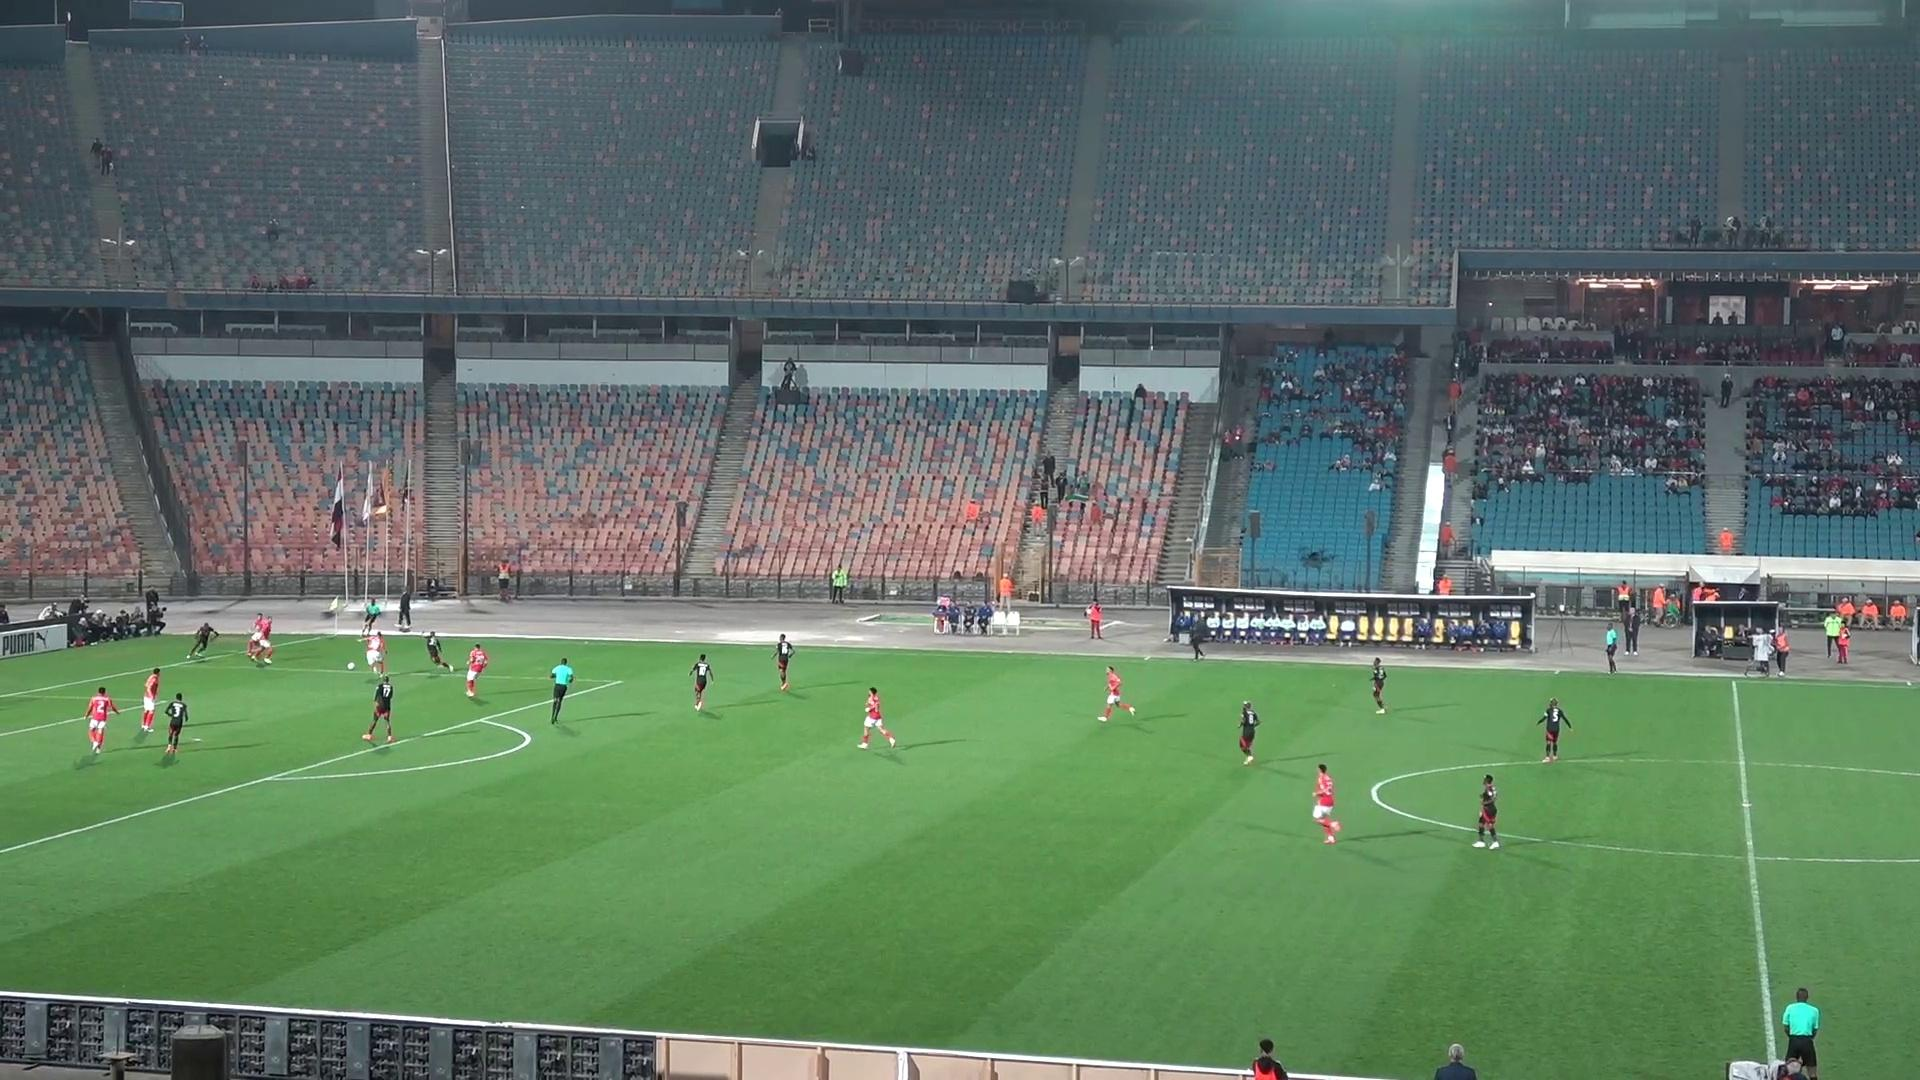Ball: (345, 661, 363, 671)
Refree: (1771, 988, 1820, 1079), (549, 657, 575, 724), (1602, 621, 1636, 673), (363, 597, 385, 632)
Team1: (84, 686, 117, 760), (858, 686, 897, 749), (1312, 764, 1341, 844), (1097, 666, 1135, 721), (137, 669, 165, 735), (465, 644, 489, 698), (252, 616, 276, 666), (360, 628, 385, 675), (247, 613, 269, 661), (348, 661, 357, 669)
Team2: (1536, 698, 1573, 761), (363, 674, 396, 742), (1472, 775, 1501, 849), (164, 694, 189, 757), (1237, 702, 1261, 765), (688, 654, 715, 711), (773, 633, 796, 691), (419, 630, 454, 669), (186, 622, 219, 659), (1370, 655, 1389, 713)
